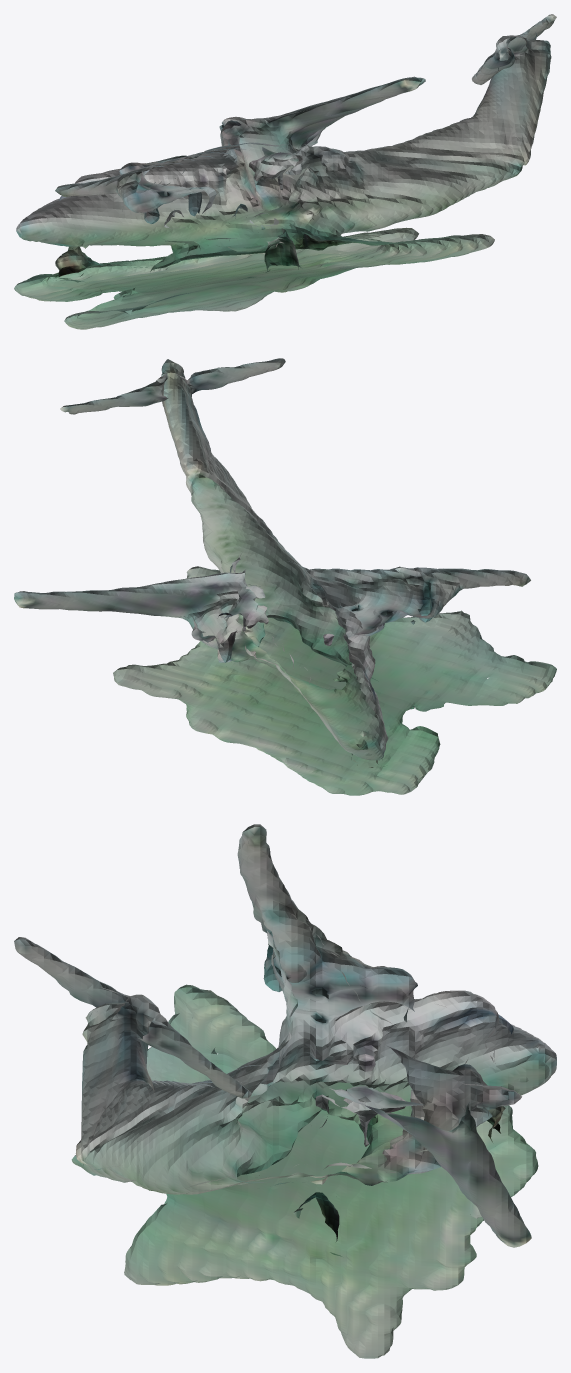
The picture shows the model from 3 angles, top to bottom: view 1: azimuth 30°, elevation 25°; view 2: azimuth 150°, elevation 25°; view 3: azimuth 270°, elevation 25°; orthographic projection. The views are drawn at different scales.
Parts seen in each view (by area): view 1: geometry_0; view 2: geometry_0; view 3: geometry_0.
Part boxes in pixels (<box>): geometry_0: <box>14,14,556,329</box>; geometry_0: <box>14,358,556,795</box>; geometry_0: <box>14,824,556,1358</box>.
Bounding box in the file's own units: 1.6 × 0.8376 × 1.03.
